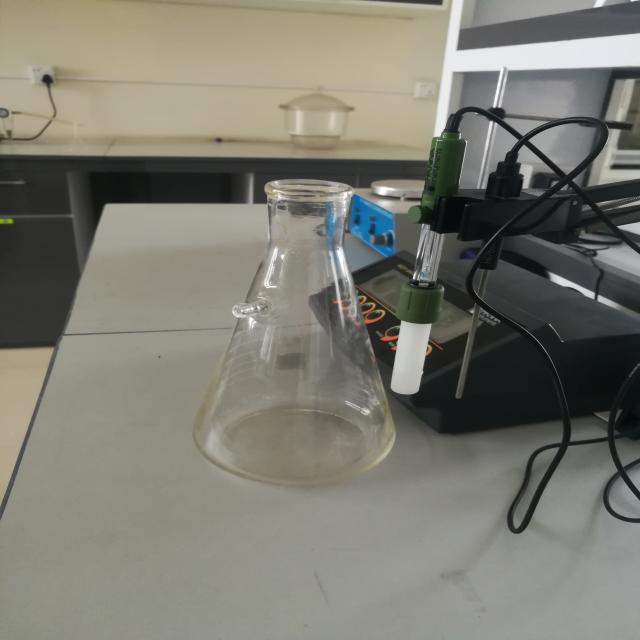Conical_Flask: (149, 150, 464, 512)
